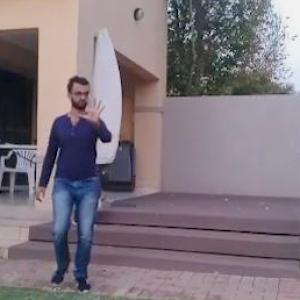follow_hand: (76, 87, 110, 128)
